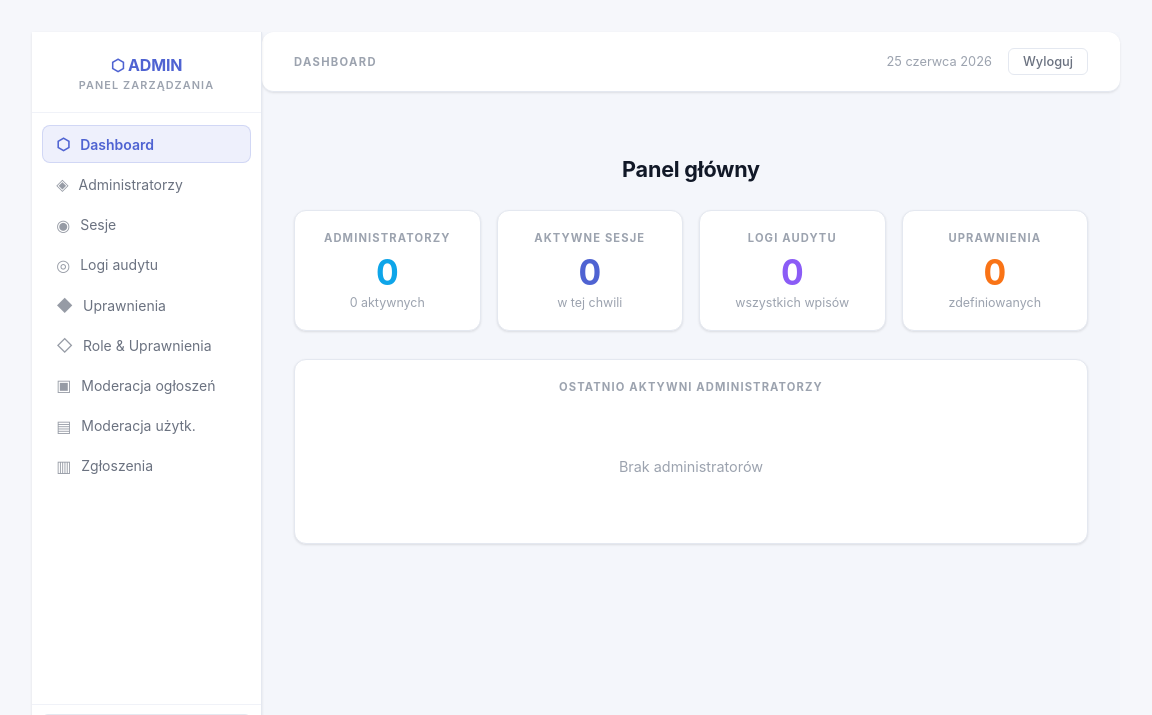
Test: AdminPanel › przełącza widok po kliknięciu w sidebarze na Administratorzy
This screenshot has width=1152, height=715.
Expected: the heading "Panel główny" is shown, [622,156,760,182]
Click the button "◈ Administratorzy": (146, 184) [42,165,251,204]
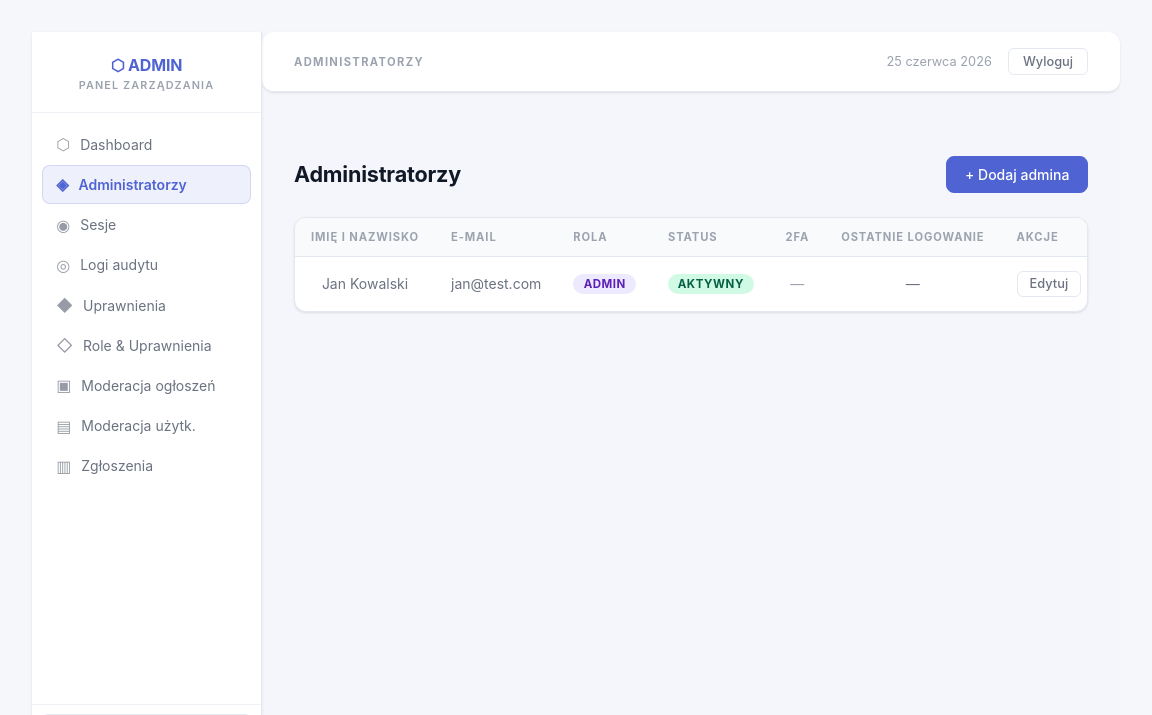
Result: the button "+ Dodaj admina" is shown at [946,156,1088,193]
